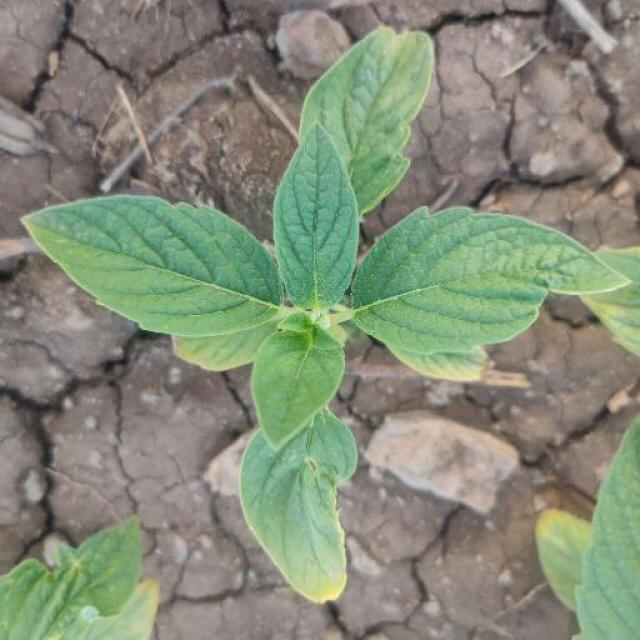crop: (20, 29, 634, 598)
